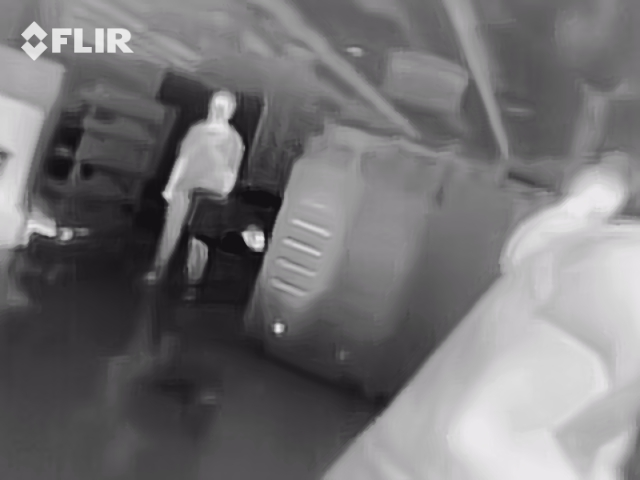head: (208, 89, 235, 126)
